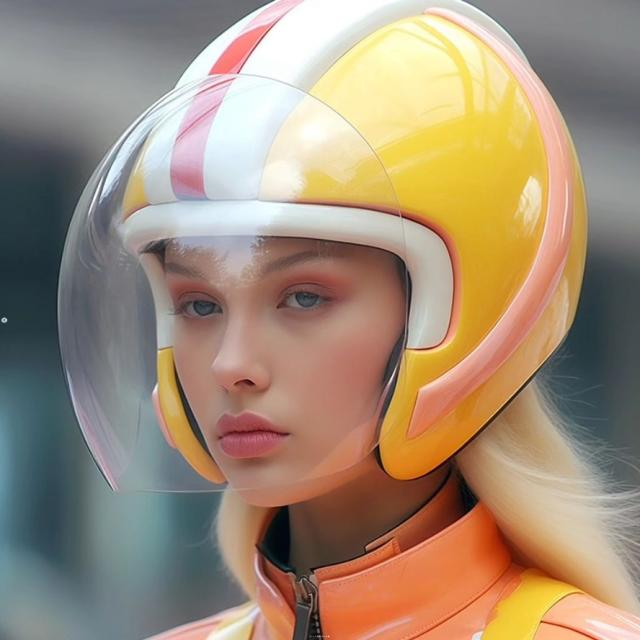illegal_helmet: (48, 0, 600, 517)
